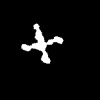single_crochet: (22, 24, 62, 62)
